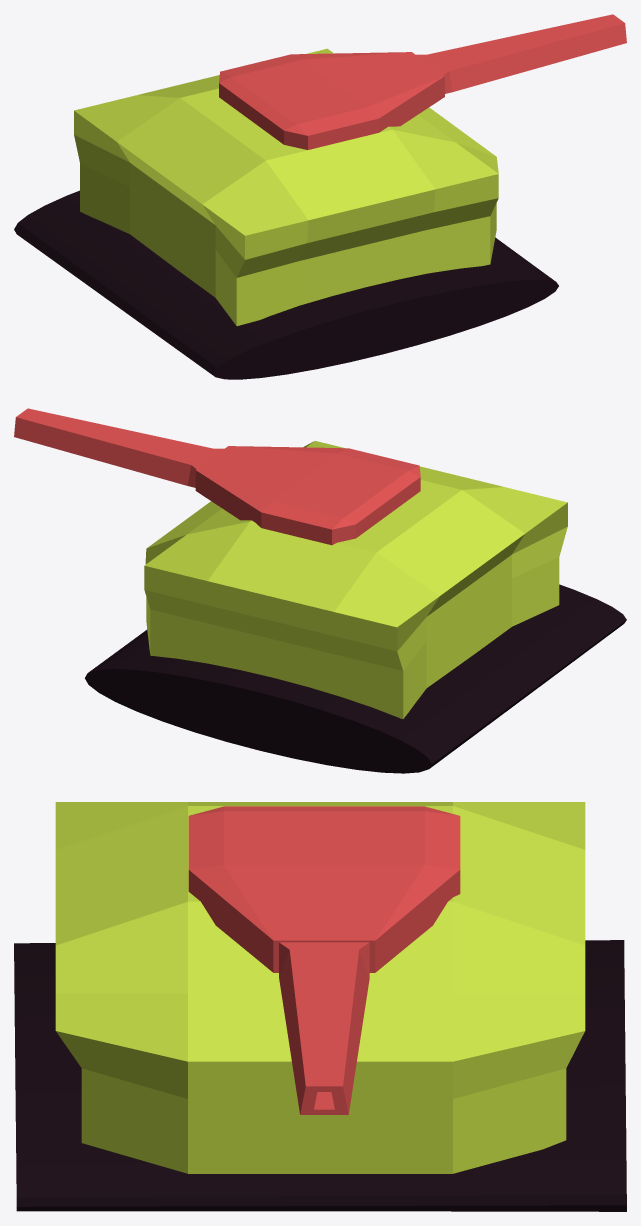
File: task.fbx
3 views of the same model, one above another, from view 1: azimuth 30°, elevation 25°; view 2: azimuth 150°, elevation 25°; view 3: azimuth 270°, elevation 25° (orthographic). The views are drawn at different scales.
Parts seen in each view (by area): view 1: üst gövde, alt gövde, namlu; view 2: üst gövde, alt gövde, namlu; view 3: üst gövde, alt gövde, namlu.
Part boxes in pixels (x1,y1,x2,y2): üst gövde: (74,48,498,325); alt gövde: (14,190,558,379); namlu: (219,14,626,149); üst gövde: (144,441,567,718); alt gövde: (85,584,626,773); namlu: (14,408,420,545); üst gövde: (55,802,585,1173); alt gövde: (14,940,626,1211); namlu: (188,806,460,1114).
Bounding box in the file's own units: 401 × 143 × 271.
